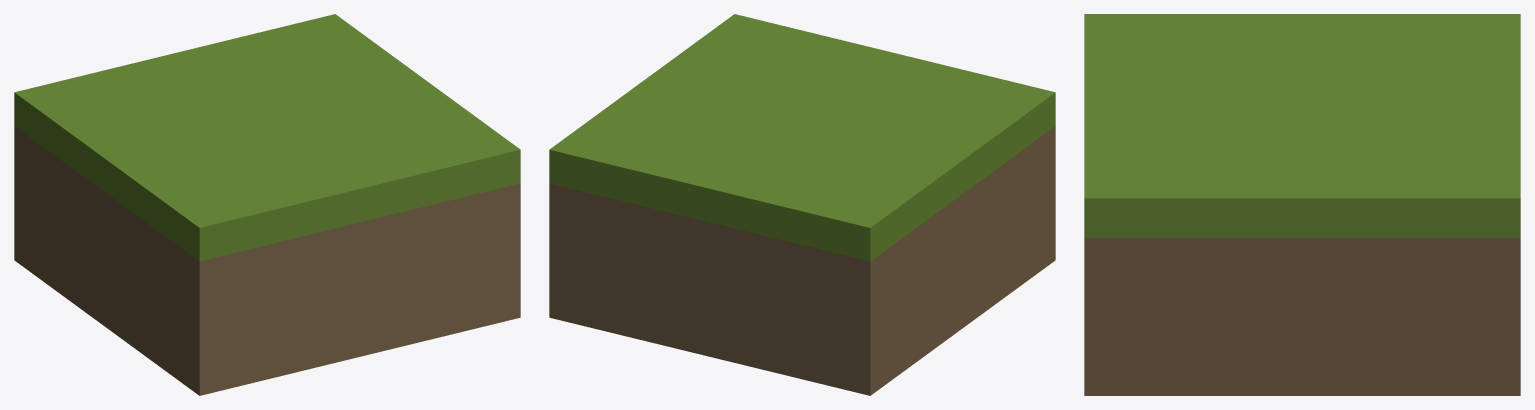
Rendered from Tile_Grass_01.fbx.
The picture shows the model from 3 angles, left to right: view 1: azimuth 30°, elevation 25°; view 2: azimuth 150°, elevation 25°; view 3: azimuth 270°, elevation 25°; orthographic projection. The views are drawn at different scales.
Parts seen in each view (by area): view 1: Cube; view 2: Cube; view 3: Cube.
Part boxes in pixels (<box>): Cube: <box>14,14,520,395</box>; Cube: <box>549,14,1055,395</box>; Cube: <box>1084,14,1520,395</box>.
Bounding box in the file's own units: 200 × 100 × 200.
